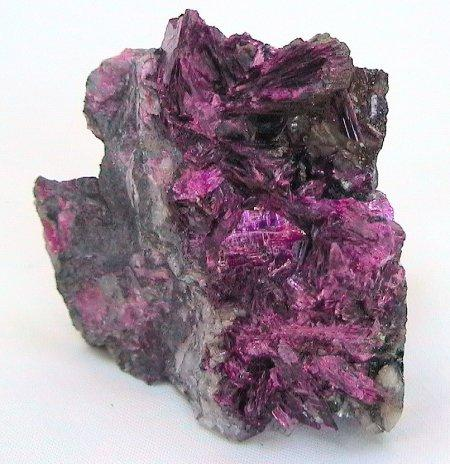erythrite: (160, 13, 407, 428), (66, 250, 174, 360), (85, 49, 141, 112), (42, 207, 75, 256)
